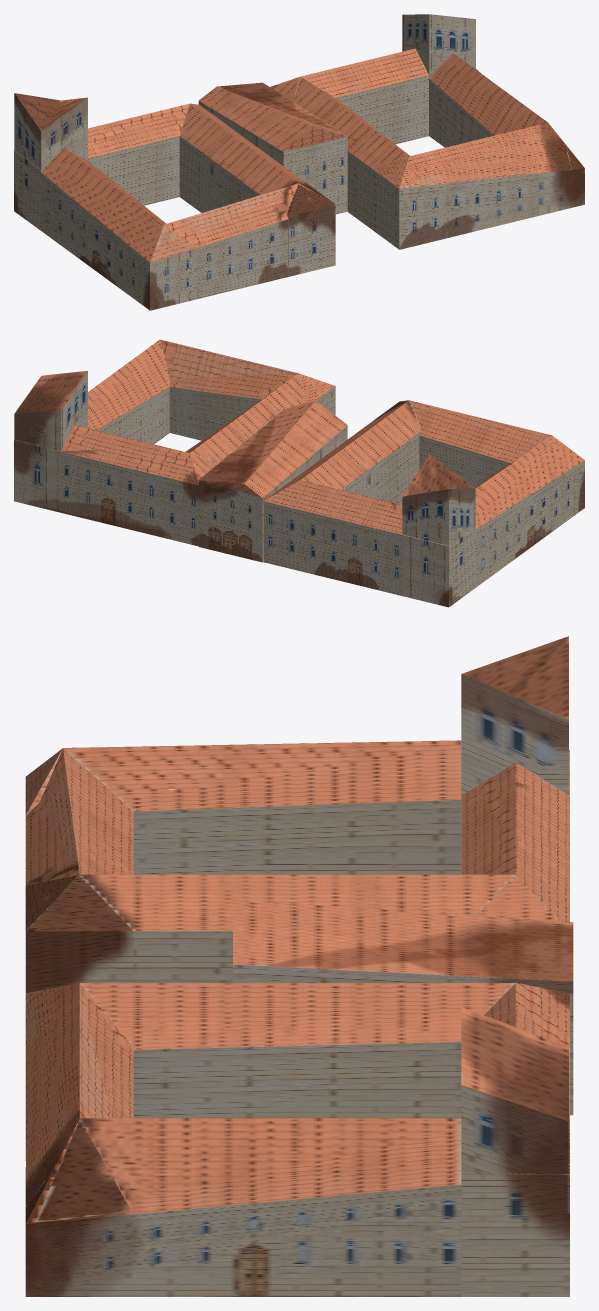
Rendered from universitatlvl1mid.fbx.
The picture shows the model from 3 angles, top to bottom: view 1: azimuth 30°, elevation 25°; view 2: azimuth 150°, elevation 25°; view 3: azimuth 270°, elevation 25°; orthographic projection. The views are drawn at different scales.
Parts seen in each view (by area): view 1: Cube; view 2: Cube; view 3: Cube.
Boxes of the visible parts, x1,y1,x2,y2 form: Cube: (14, 14, 584, 310); Cube: (14, 339, 584, 607); Cube: (25, 636, 573, 1296).
Size of the model in its own units: 1491 by 400 by 813.
